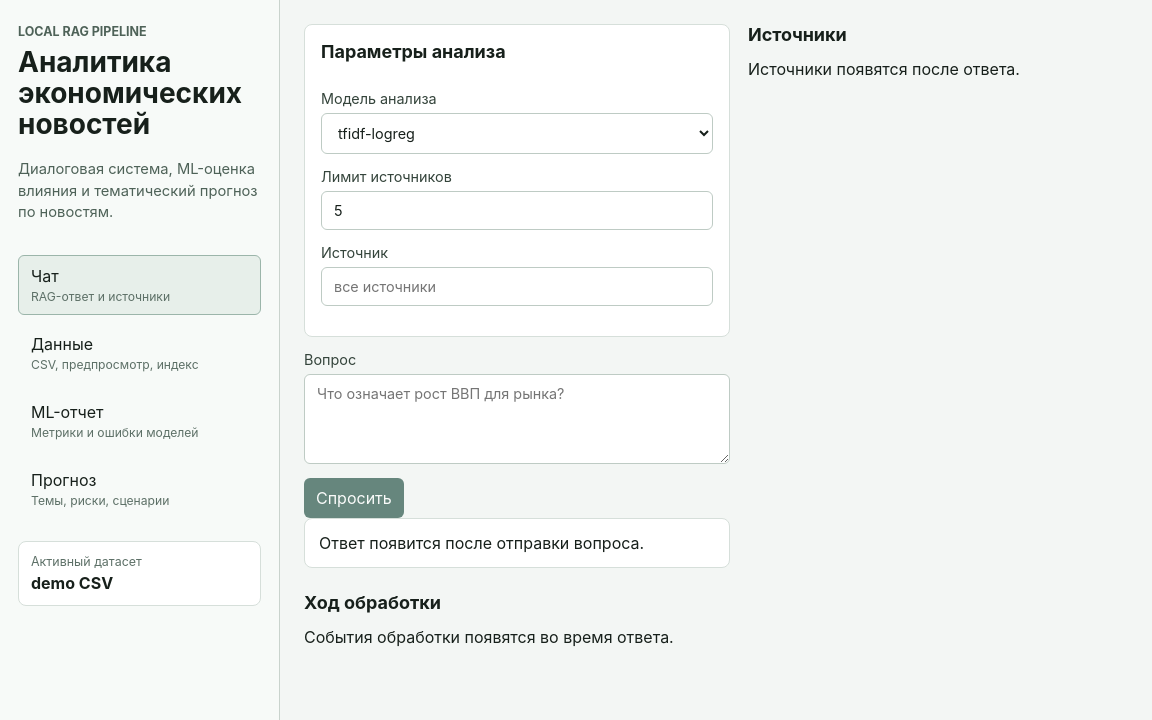
Test: App › submits a real stream request shape and renders answer, timeline, sources and impacts
Select "embedding-logreg" in the dropdown labelled "Модель анализа" at (517, 134), box [321, 113, 713, 154]
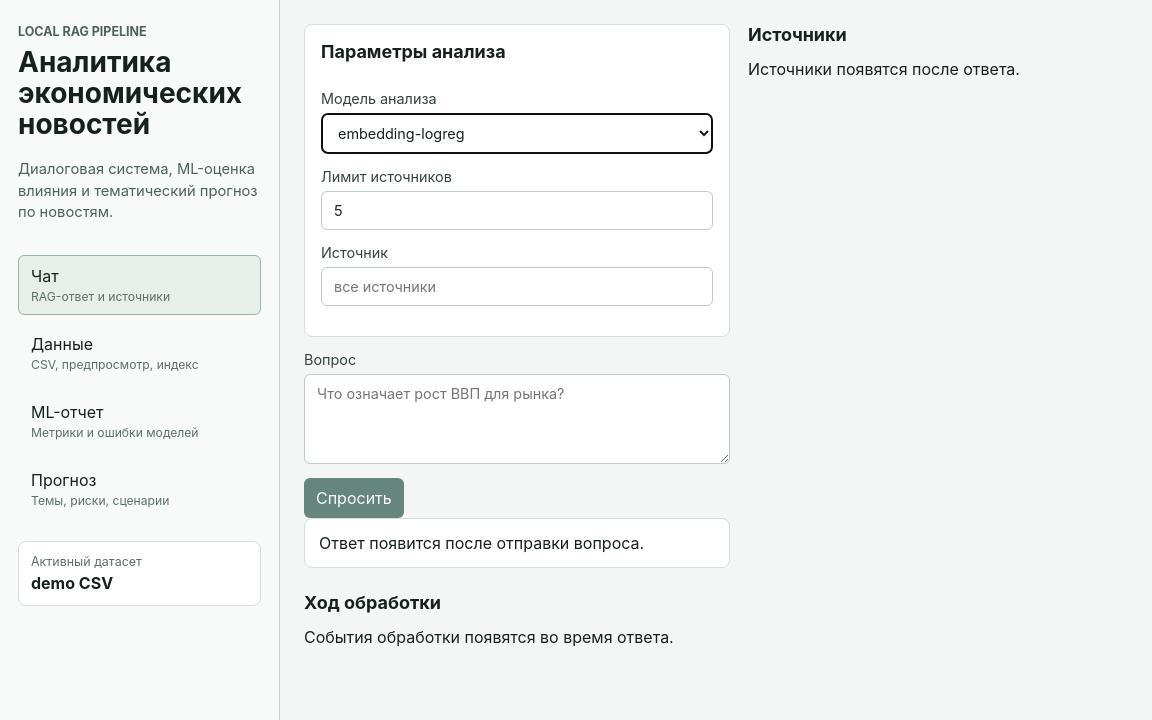
Replace the text in the number field labelled "Лимит источников" with "3" at (517, 210), box [321, 191, 713, 230]
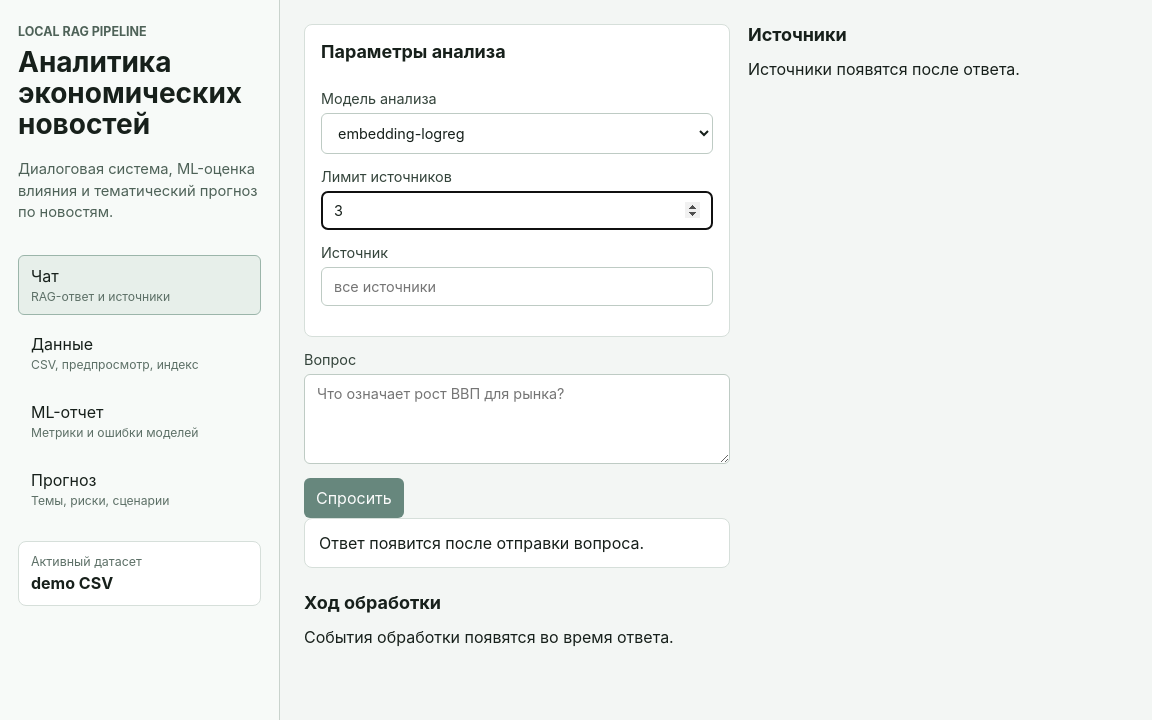
Type "Что с ВВП?" into the text box labelled "Вопрос" at (517, 419), box [304, 374, 730, 464]
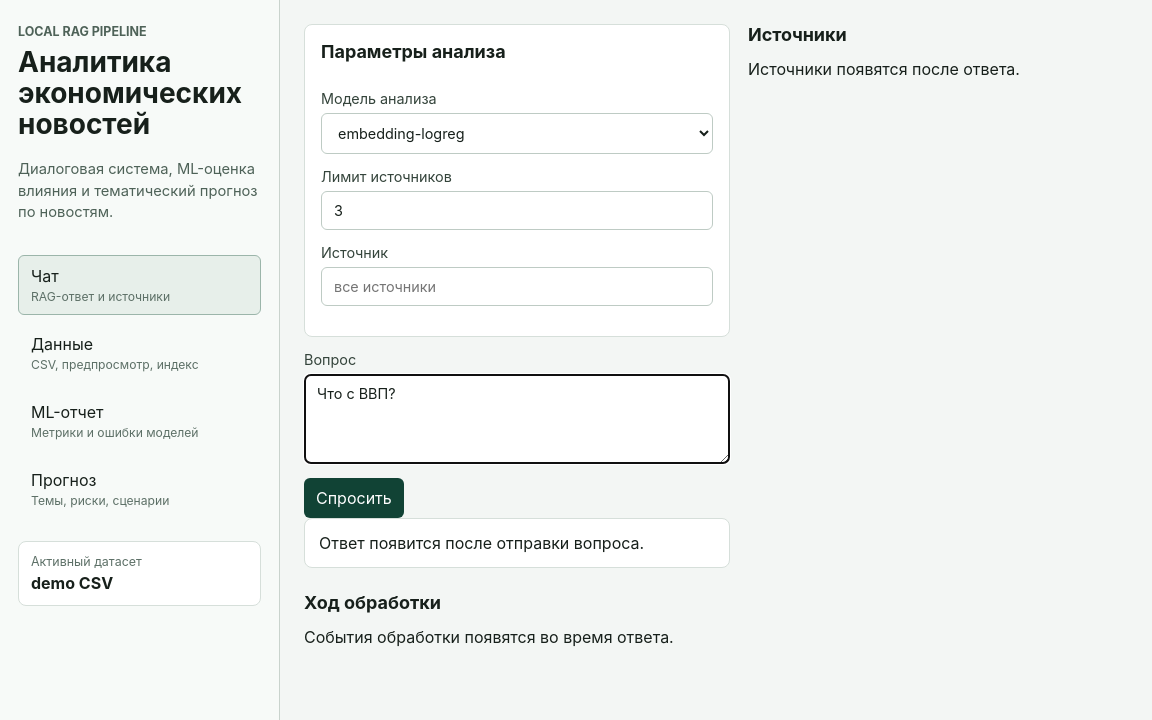
Click the button "Спросить" at (354, 498), box [304, 478, 404, 518]
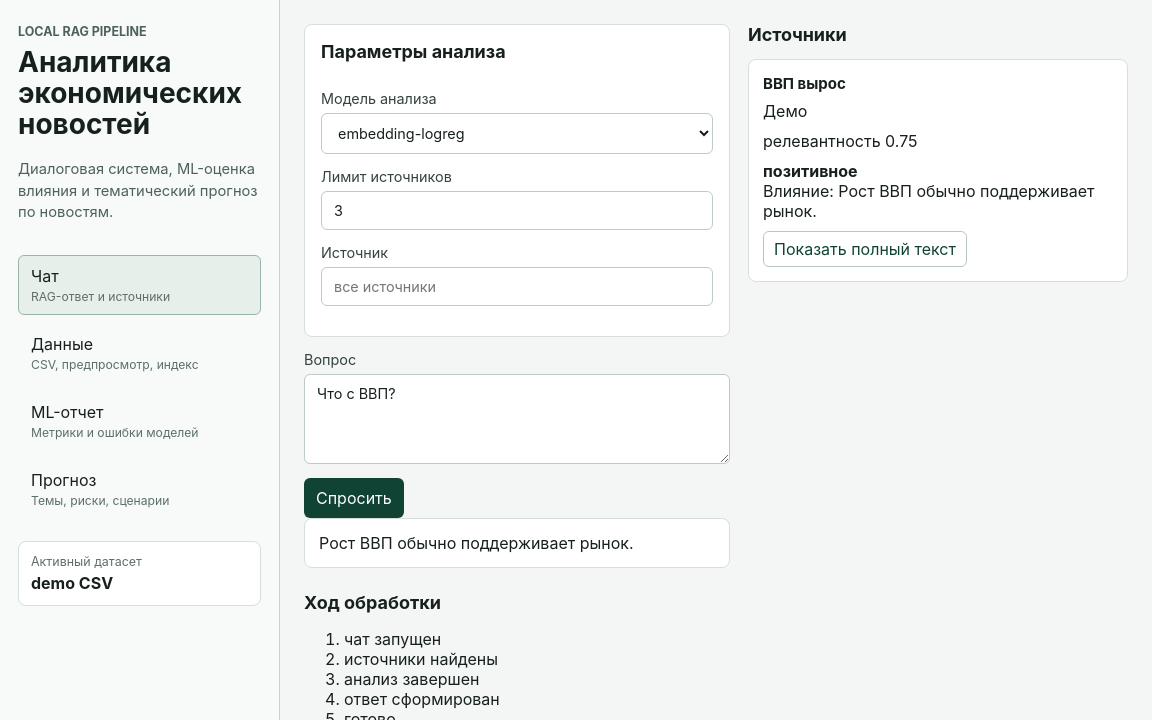
Now the text "Рост ВВП обычно поддерживает рынок." is shown, box [304, 518, 730, 568]
Now the list item "ответ сформирован" is shown, box [344, 689, 500, 709]
Now the heading "ВВП вырос" is shown, box [763, 74, 846, 93]
Click the button with aria-label "Показать полный текст новости ВВП вырос" at (865, 249), box [763, 231, 967, 267]
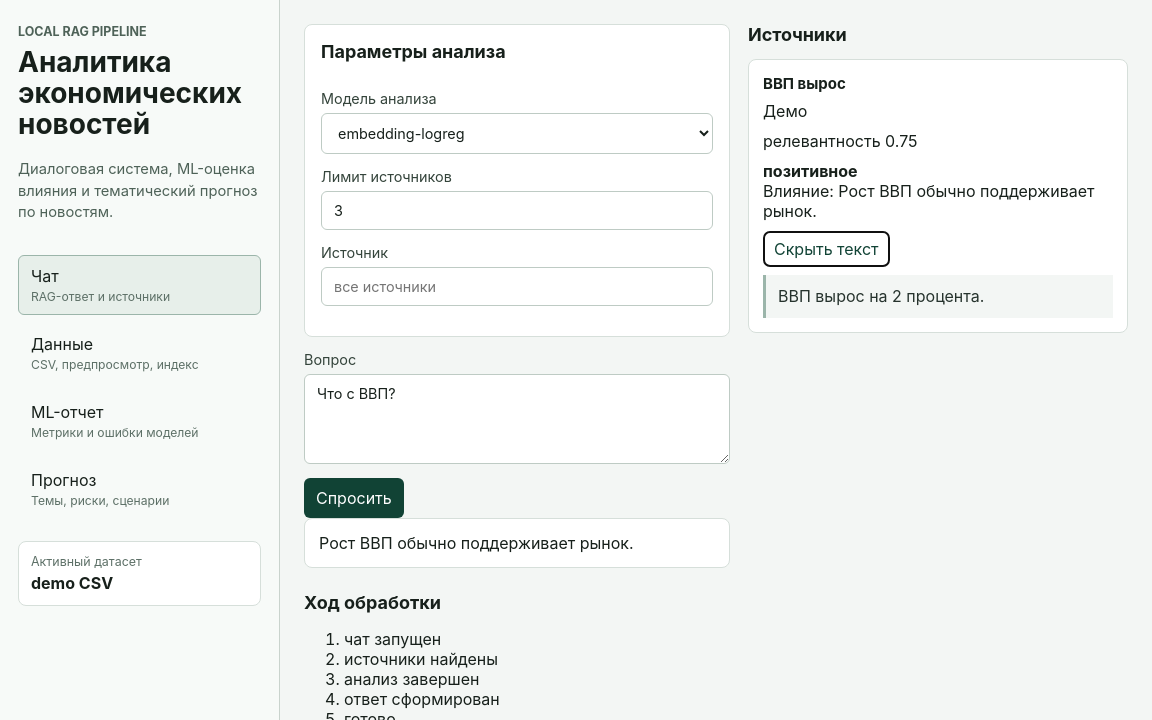
Now the text "ВВП вырос на 2 процента." is shown, box [763, 275, 1113, 318]
